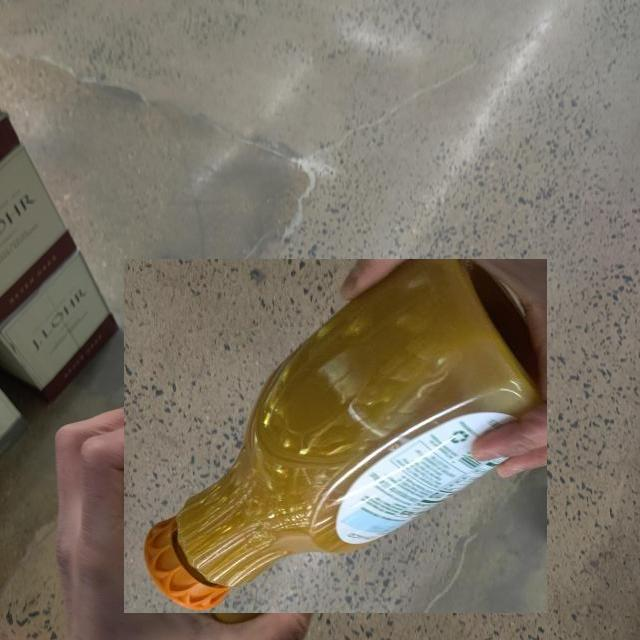Juice: (123, 258, 547, 613)
